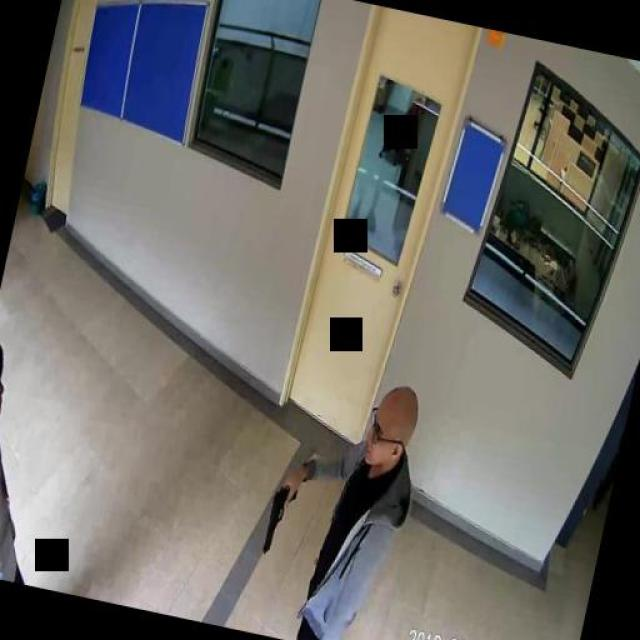gun: (260, 478, 299, 554)
